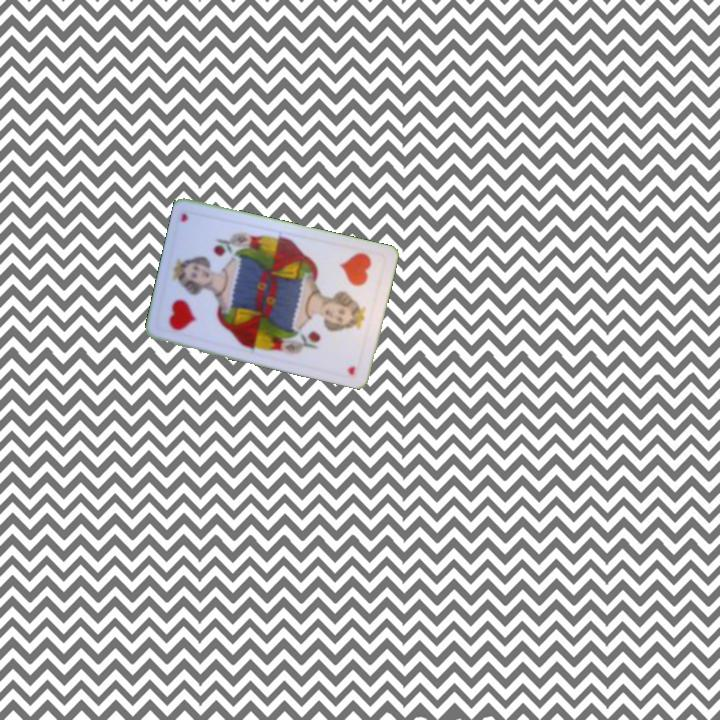h_q.png: (154, 267, 225, 344), (318, 242, 388, 319)
